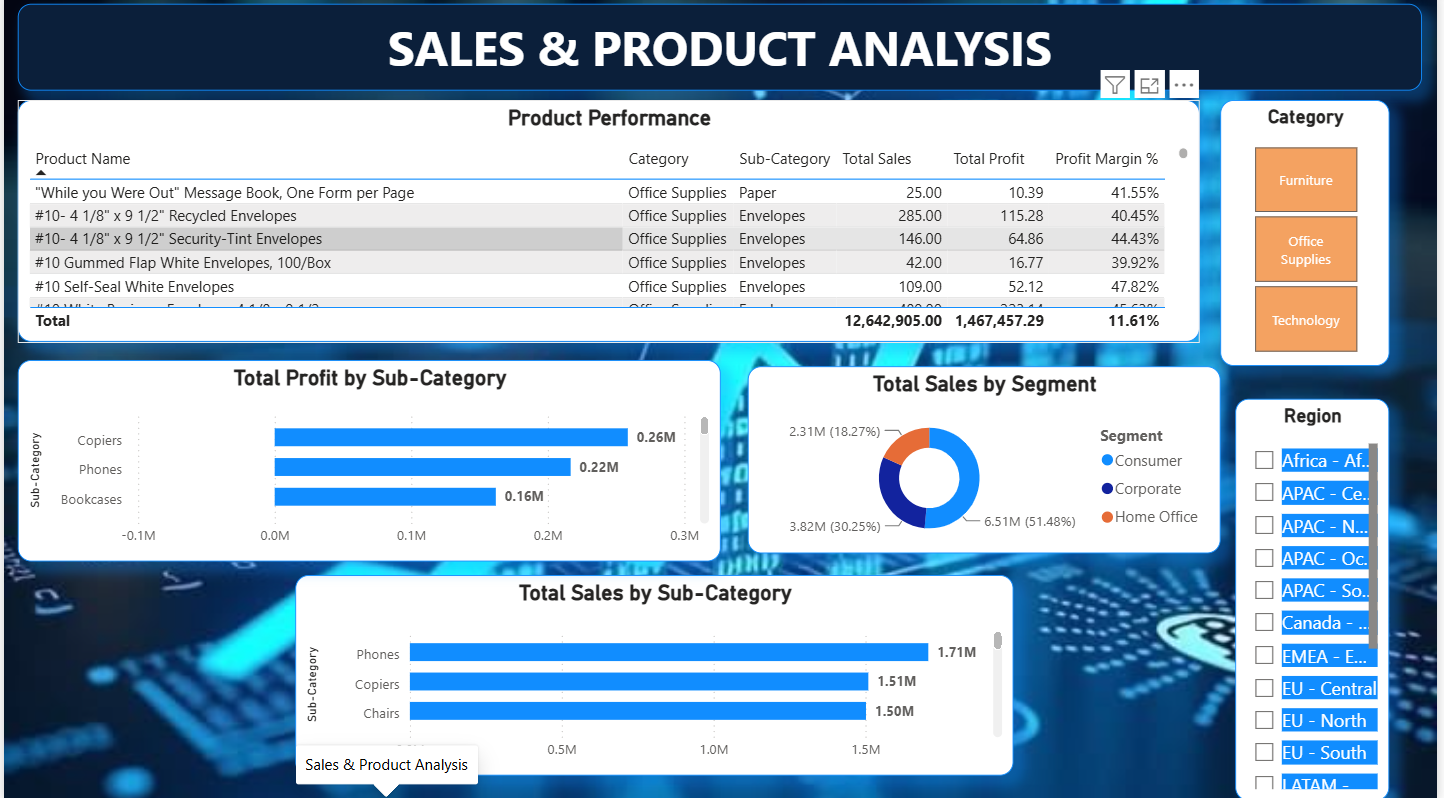

The dashboard page shown, as its layout file describes it:
{"tool":"powerbi","page":{"name":"Sales & Product Analysis","canvas":[1280,720],"ordinal":1},"visuals":[{"type":"textbox","box":[12.8,8.1,1254.7,77.9],"z":0},{"type":"clusteredBarChart","fields":{"Category":["FactSales.Sub-Category"],"Y":["FactSales.Total Sales"]},"box":[260.5,518.6,641.9,179.1],"z":1000},{"type":"clusteredBarChart","fields":{"Category":["FactSales.Sub-Category"],"Y":["FactSales.Total Profit"]},"box":[12.8,325.6,627.9,180.2],"z":2000},{"type":"tableEx","title":"Product Performance","fields":{"Values":["FactSales.Product Name","FactSales.Category","FactSales.Sub-Category","FactSales.Total Sales","FactSales.Total Profit","FactSales.Profit Margin %"]},"box":[12.8,94.2,1055.8,216.3],"z":3000},{"type":"donutChart","fields":{"Category":["FactSales.Segment"],"Y":["FactSales.Total Sales"]},"box":[664,331.4,422.1,167.4],"z":4000},{"type":"slicer","title":"Category","fields":{"Values":["FactSales.Category"]},"box":[1086,94.2,151.2,237.2],"z":5000},{"type":"slicer","title":"Region","fields":{"Values":["FactSales.Region"]},"box":[1110.1,360.9,137.2,348.5],"z":6000}]}

Visuals, with their boxes in screenshot pixels (x1, y1, x2, y2), scaled from the page's 1280x720 canvas onto the 1444x798 screenshot:
textbox: {"left": 14, "top": 9, "right": 1430, "bottom": 95}
clusteredBarChart - FactSales.Sub-Category x FactSales.Total Sales: {"left": 294, "top": 575, "right": 1018, "bottom": 773}
clusteredBarChart - FactSales.Sub-Category x FactSales.Total Profit: {"left": 14, "top": 361, "right": 723, "bottom": 561}
"Product Performance" tableEx: {"left": 14, "top": 104, "right": 1206, "bottom": 344}
donutChart - FactSales.Segment x FactSales.Total Sales: {"left": 749, "top": 367, "right": 1225, "bottom": 553}
"Category" slicer: {"left": 1225, "top": 104, "right": 1396, "bottom": 367}
"Region" slicer: {"left": 1252, "top": 400, "right": 1407, "bottom": 786}
